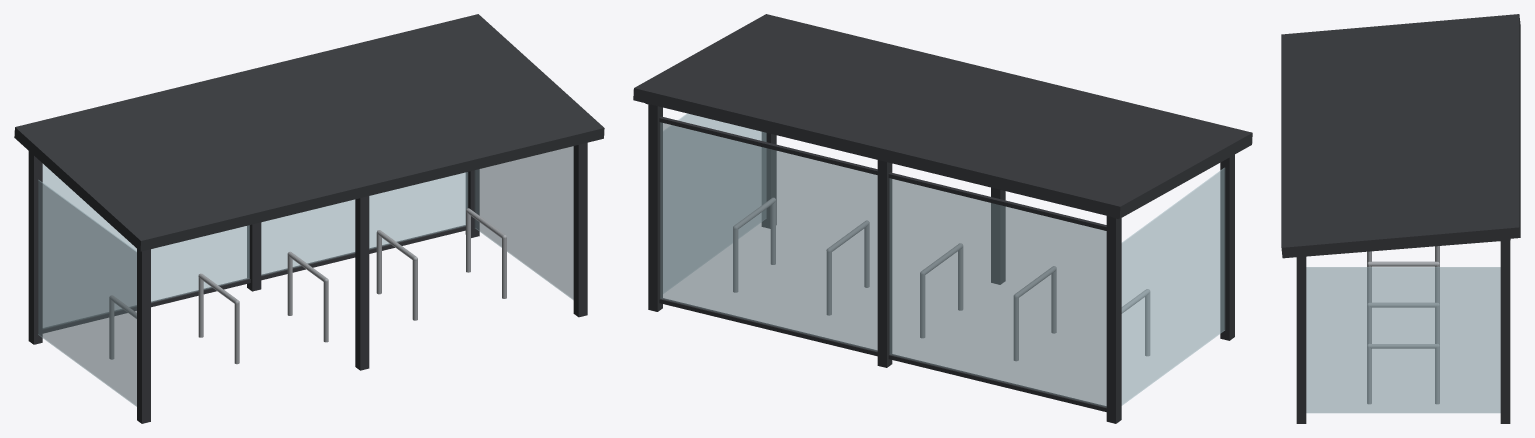
3 views of the same model, side by side, from view 1: azimuth 30°, elevation 25°; view 2: azimuth 150°, elevation 25°; view 3: azimuth 270°, elevation 25° (orthographic). The views are drawn at different scales.
Visible parts, largest first — view 1: backWall=true;depth=2.2;frameMaterial=steel_dark;height=2.2; (×3); view 2: backWall=true;depth=2.2;frameMaterial=steel_dark;height=2.2; (×3); view 3: backWall=true;depth=2.2;frameMaterial=steel_dark;height=2.2; (×3).
Boxes of the visible parts, x1,y1,x2,y2 form: backWall=true;depth=2.2;frameMaterial=steel_dark;height=2.2; (×3): (14,14,604,423); backWall=true;depth=2.2;frameMaterial=steel_dark;height=2.2; (×3): (633,14,1252,423); backWall=true;depth=2.2;frameMaterial=steel_dark;height=2.2; (×3): (1281,14,1520,423).
Size of the model in its own units: 5.2 by 2.46 by 2.28.
